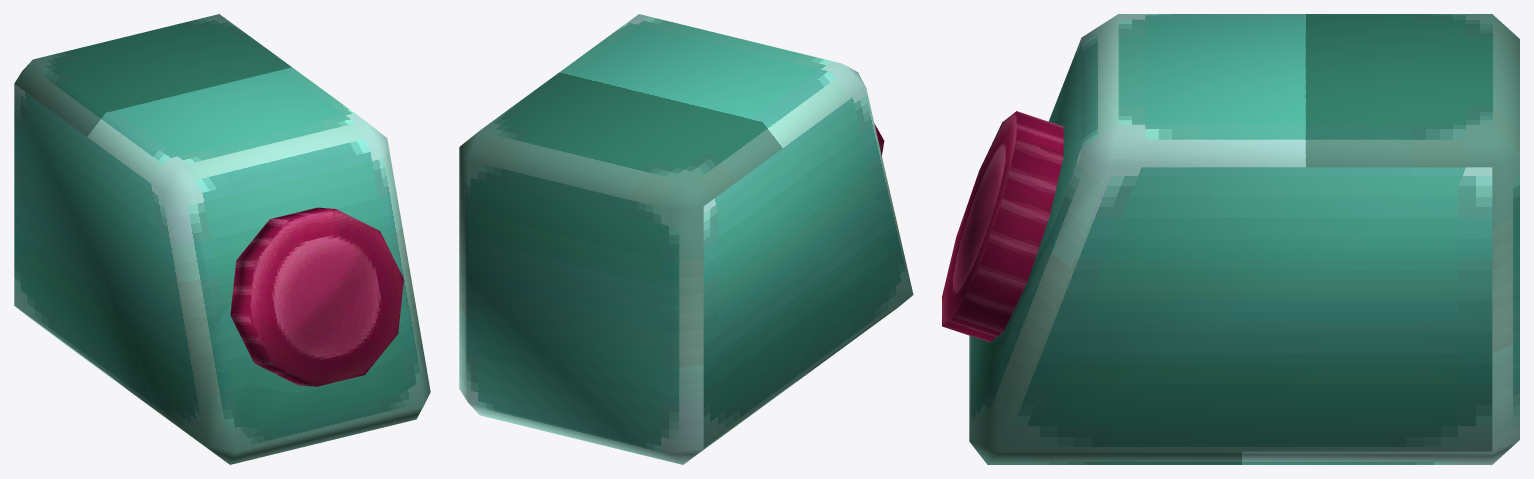
Rendered from int_oth_sweet.dae.
The picture shows the model from 3 angles, left to right: view 1: azimuth 30°, elevation 25°; view 2: azimuth 150°, elevation 25°; view 3: azimuth 270°, elevation 25°; orthographic projection. The views are drawn at different scales.
Visible parts, largest first — view 1: int_oth_sweet; view 2: int_oth_sweet; view 3: int_oth_sweet.
Boxes of the visible parts, x1,y1,x2,y2 form: int_oth_sweet: (14,14,430,464); int_oth_sweet: (459,14,913,464); int_oth_sweet: (942,14,1519,464).
Bounding box in the file's own units: 13 × 14.61 × 22.7.
3 materials, 3 textured.
